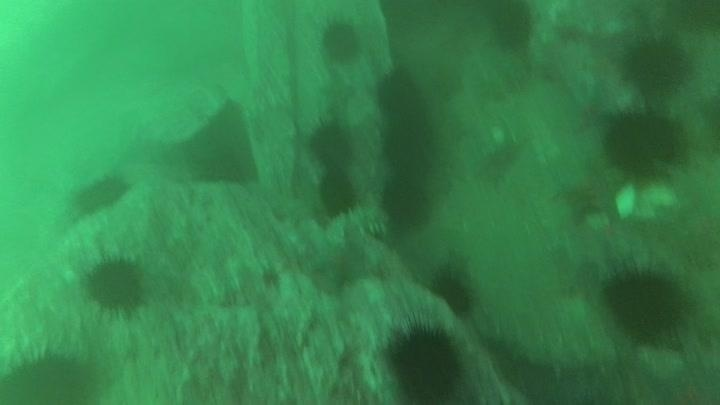echinus: (601, 261, 692, 344), (384, 319, 466, 403), (1, 345, 103, 405), (601, 108, 686, 179), (81, 252, 149, 318), (621, 32, 692, 95), (380, 117, 435, 172), (379, 174, 432, 229), (374, 65, 426, 120), (70, 171, 132, 216), (427, 267, 477, 318), (306, 119, 356, 169), (487, 2, 536, 51), (318, 18, 364, 66), (316, 168, 360, 218)
holothurian: (482, 316, 621, 382)
starfish: (555, 158, 628, 225), (310, 235, 373, 290)
